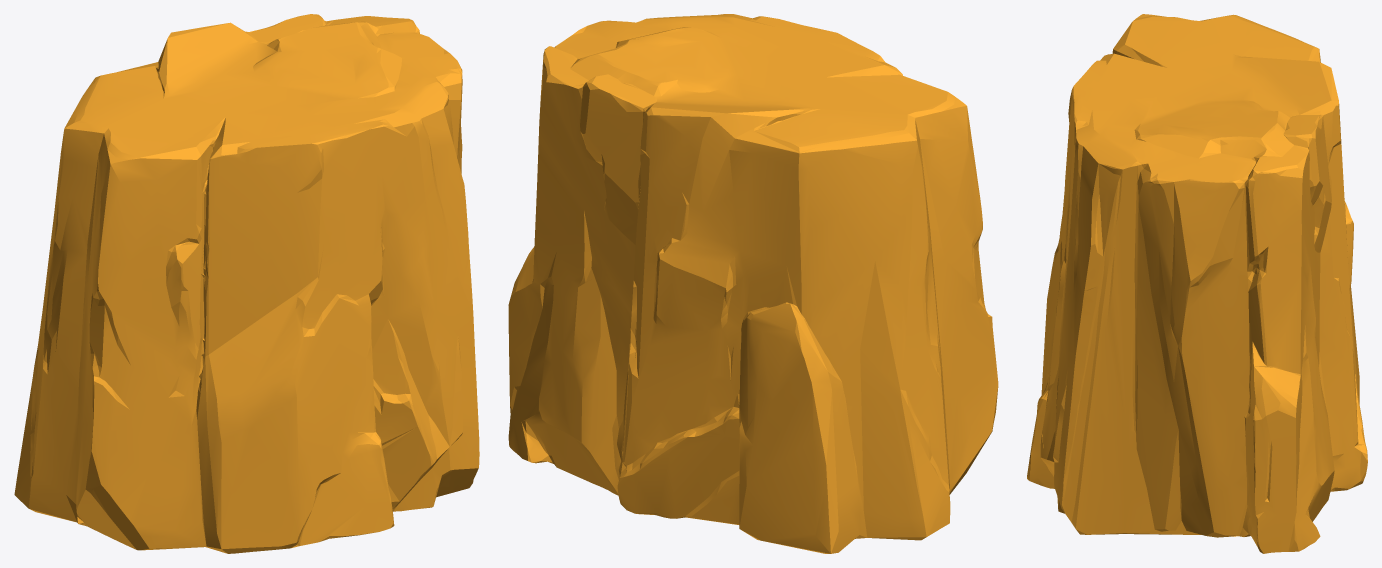
File: SM_Iceberg_Big_C_Plane.fbx
The picture shows the model from 3 angles, left to right: view 1: azimuth 30°, elevation 25°; view 2: azimuth 150°, elevation 25°; view 3: azimuth 270°, elevation 25°; orthographic projection. The views are drawn at different scales.
Visible parts, largest first — view 1: iceberg-big-c-plane; view 2: iceberg-big-c-plane; view 3: iceberg-big-c-plane.
Part boxes in pixels (x1,y1,x2,y2): iceberg-big-c-plane: [14, 14, 479, 553]; iceberg-big-c-plane: [508, 14, 998, 553]; iceberg-big-c-plane: [1027, 14, 1367, 553].
Size of the model in its own units: 26.24 by 24.3 by 19.17.
